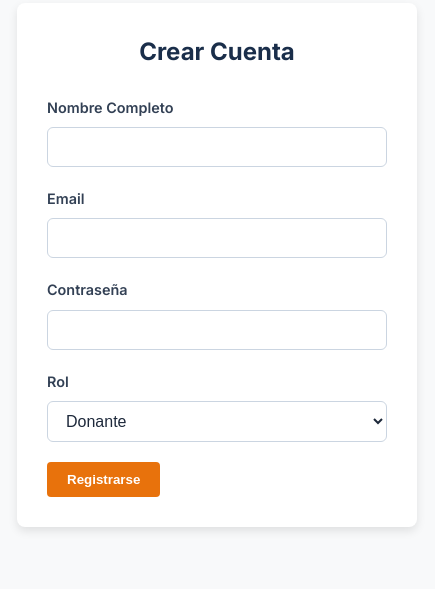
Test: Componente RegisterForm › debe usar mensaje por defecto si no hay respuesta del servidor
The image size is (435, 589).
// Llenamos datos para que el formulario se envíe
Type "Matias" into the field labelled "Nombre Completo". click: (217, 147)
box: left=47, top=127, right=387, bottom=167
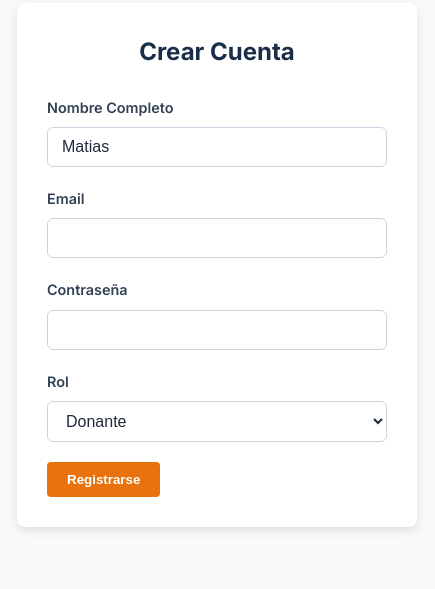
Type "m@m.cl" into the field labelled "Email". click: (217, 238)
box: left=47, top=218, right=387, bottom=258
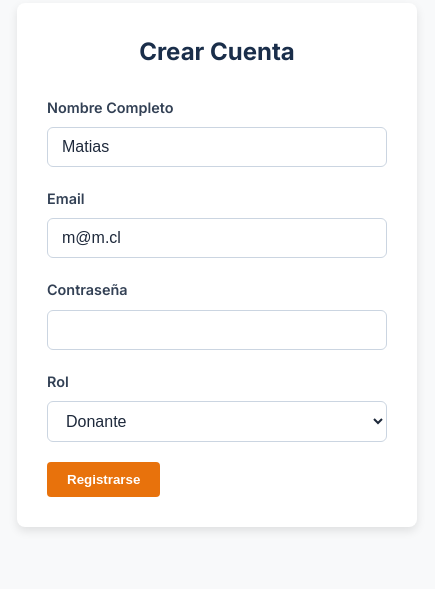
Type "1234" into the password field labelled "Contraseña". click: (217, 330)
box: left=47, top=310, right=387, bottom=350
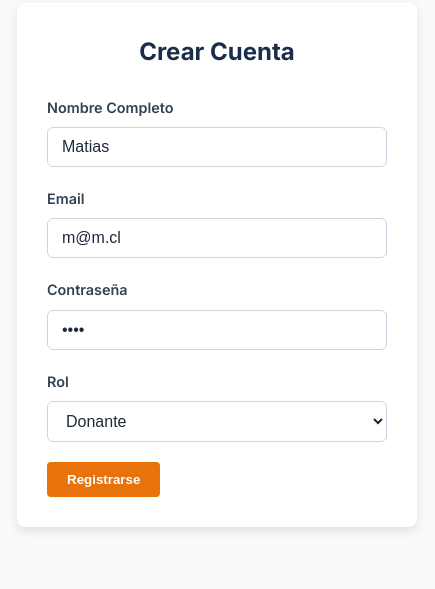
Click the button "Registrarse". click: (104, 479)
box: left=47, top=462, right=160, bottom=497
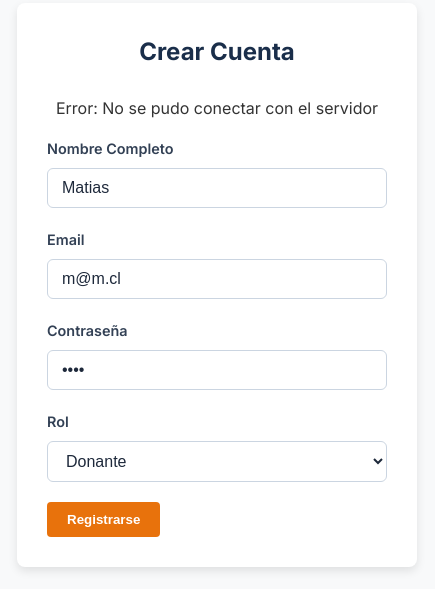
Expected: the text "Error: No se pudo conectar con el servidor" is shown, left=47, top=96, right=387, bottom=122
